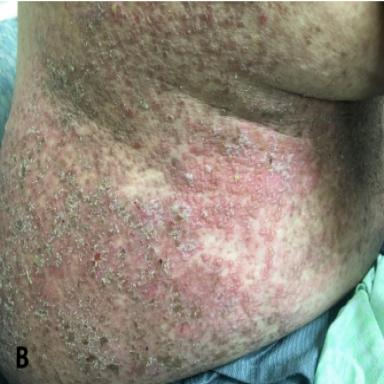Darier_s-Disease: (1, 1, 382, 384)
